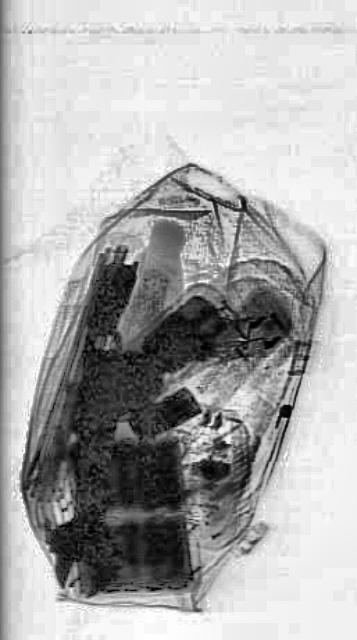Wrench: (44, 316, 144, 608)
